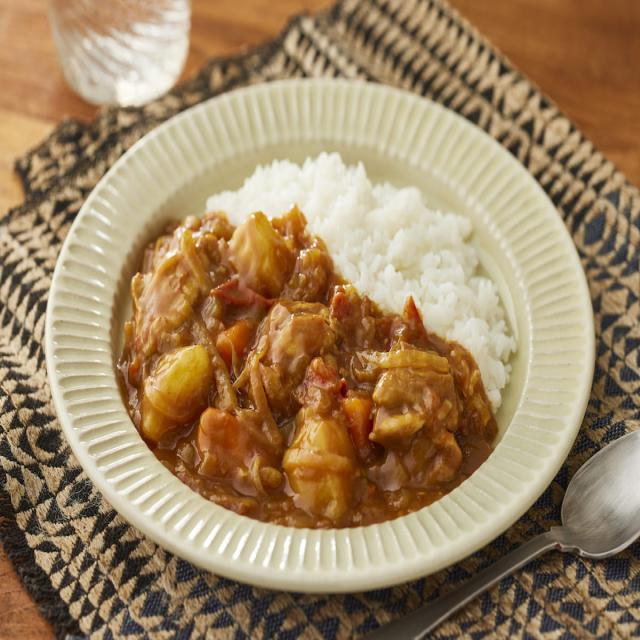Wet: (122, 151, 519, 526)
